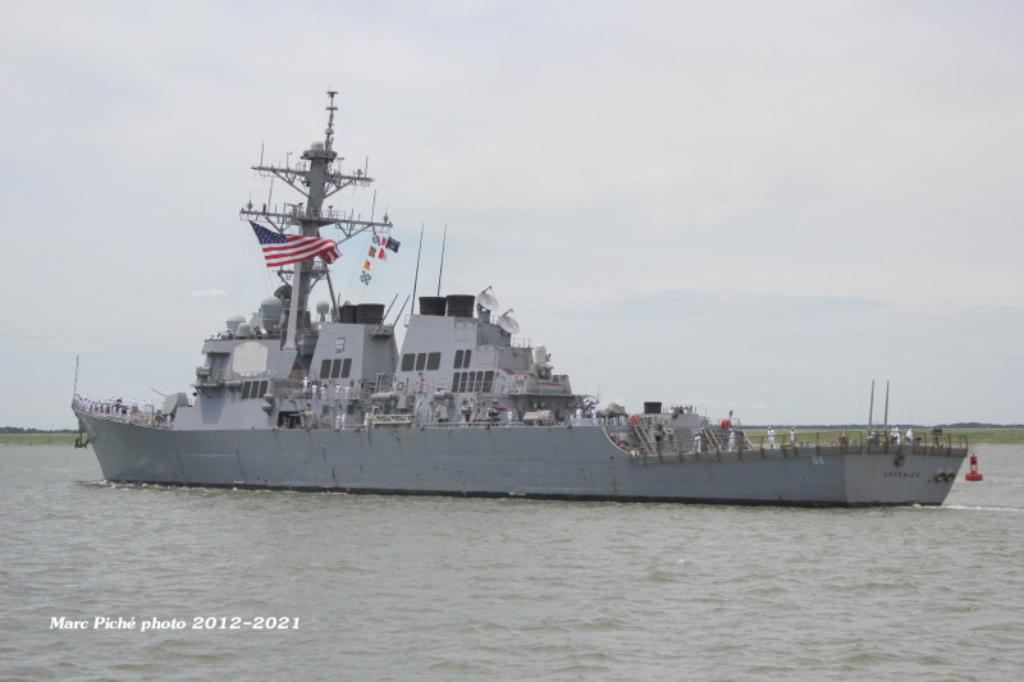Warship: (64, 86, 976, 506)
